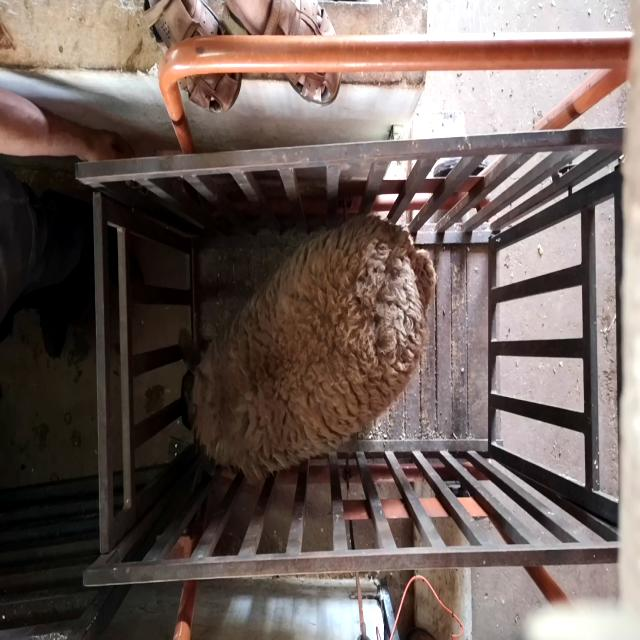sheep: (179, 215, 438, 478)
